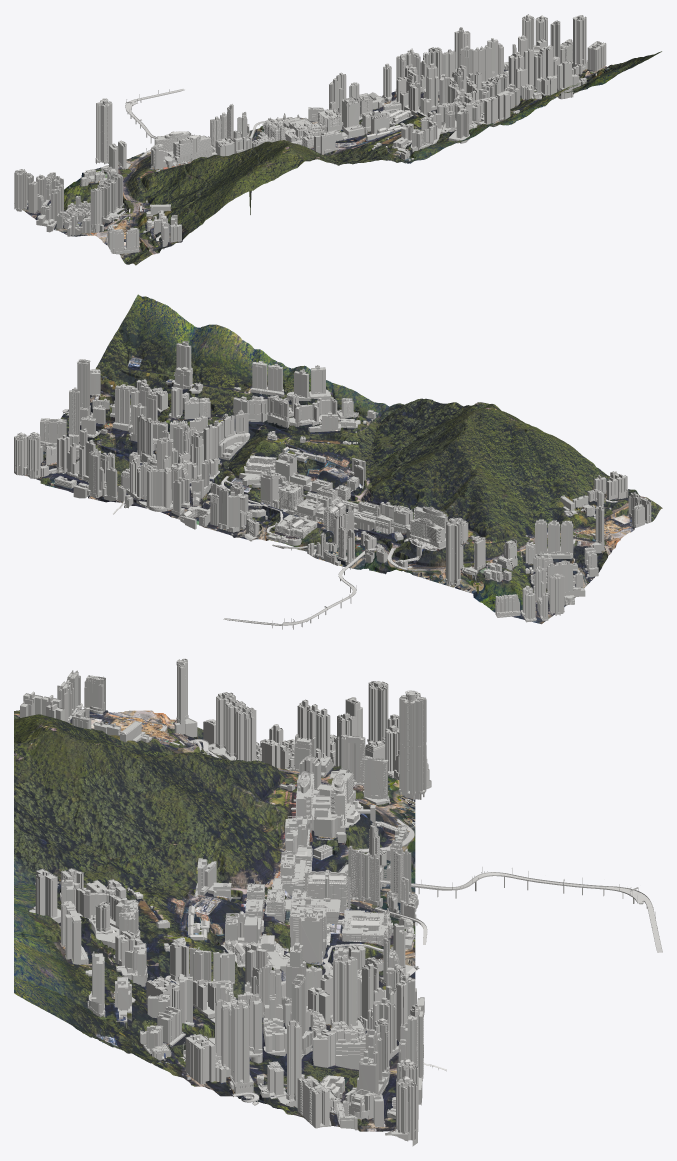
File: hku.glb
3 views of the same model, one above another, from view 1: azimuth 30°, elevation 25°; view 2: azimuth 150°, elevation 25°; view 3: azimuth 270°, elevation 25° (orthographic). The views are drawn at different scales.
Visible parts, largest first — view 1: buildings, terrain_T31500156000106E11, terrain_T32250156000106E11, infrastructure; view 2: buildings, terrain_T31500156000106E11, terrain_T32250156000106E11, infrastructure; view 3: buildings, terrain_T31500156000106E11, terrain_T32250156000106E11, infrastructure.
Boxes of the visible parts, bbox=[...] form: buildings: bbox=[14, 14, 606, 254]; terrain_T31500156000106E11: bbox=[22, 126, 397, 265]; terrain_T32250156000106E11: bbox=[300, 51, 661, 163]; infrastructure: bbox=[109, 60, 604, 241]; buildings: bbox=[14, 341, 651, 622]; terrain_T31500156000106E11: bbox=[279, 398, 662, 624]; terrain_T32250156000106E11: bbox=[22, 294, 399, 542]; infrastructure: bbox=[62, 404, 617, 629]; buildings: bbox=[20, 658, 431, 1146]; terrain_T31500156000106E11: bbox=[14, 710, 415, 938]; terrain_T32250156000106E11: bbox=[14, 856, 415, 1131]; infrastructure: bbox=[150, 721, 662, 1113].
Size of the model in its own units: 1547 by 309 by 972.
4 materials, 2 textured.
